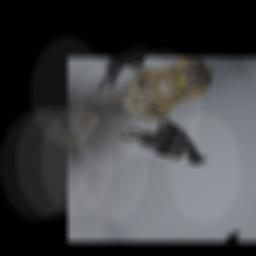Crow: (114, 103, 210, 194)
